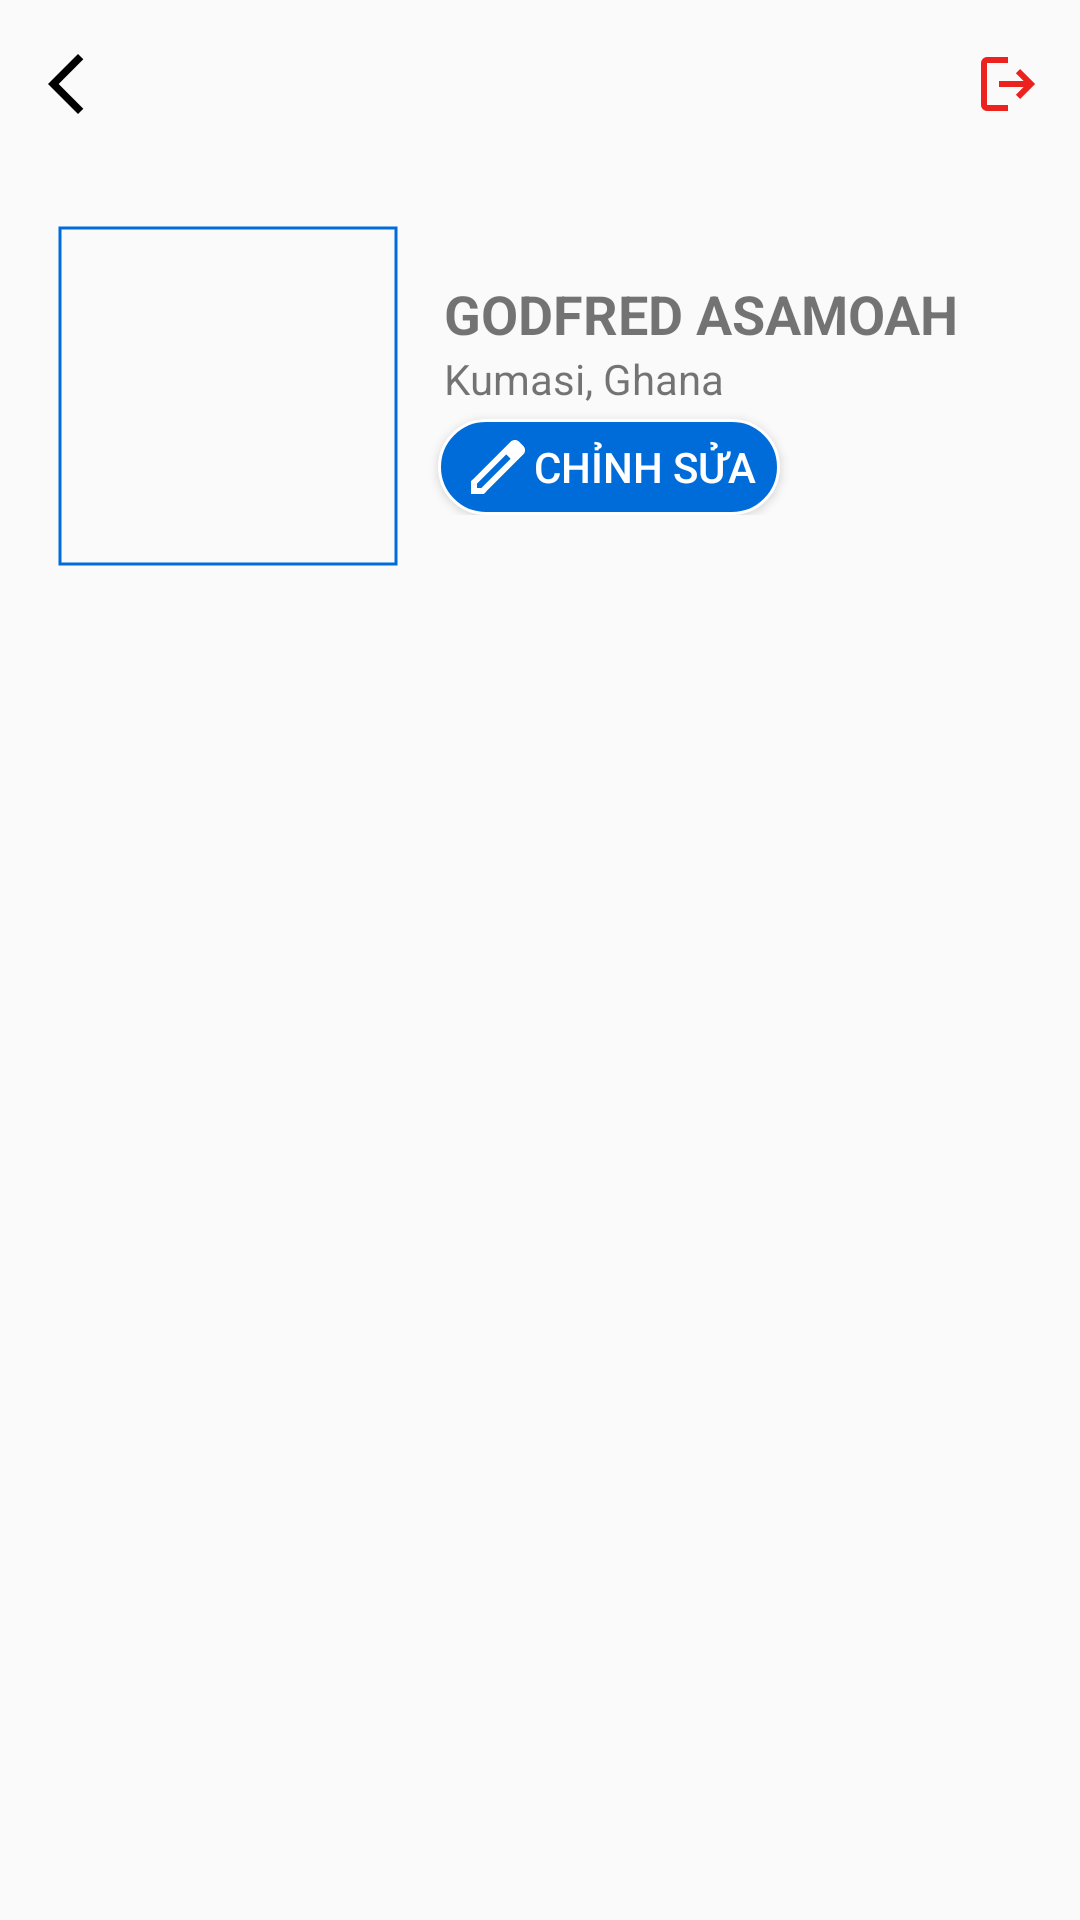

Point at icon controls on the screen. Image size 1080x1920, points as [x,y].
arrow back: [65,84]
